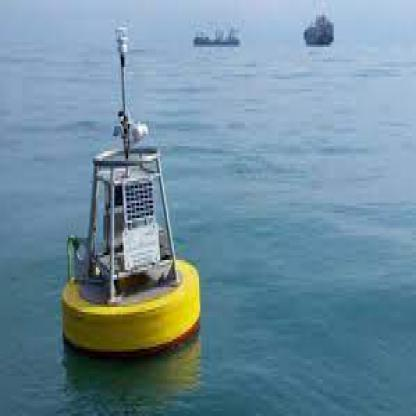buoy: (54, 10, 206, 366)
